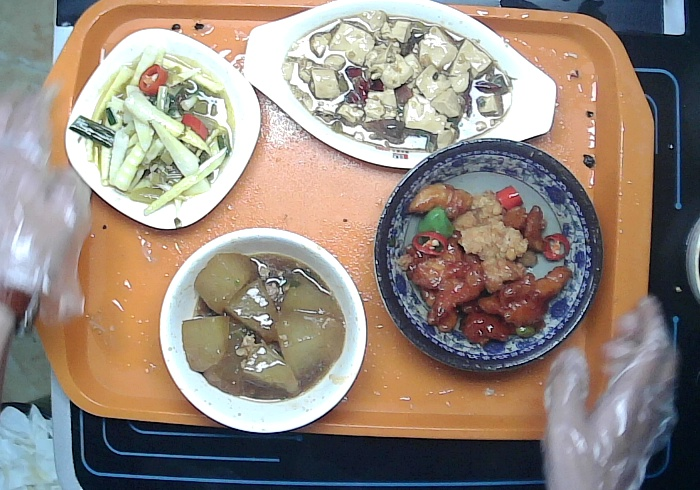ZNLD-Qing_Hua_Wan: (375, 137, 606, 375)
ZNLD-Si_Fang_Wan: (66, 26, 261, 230)
ZNLD-Tang_Wan: (158, 225, 367, 435)
ZNLD-Yu_Pan: (243, 1, 558, 170)
